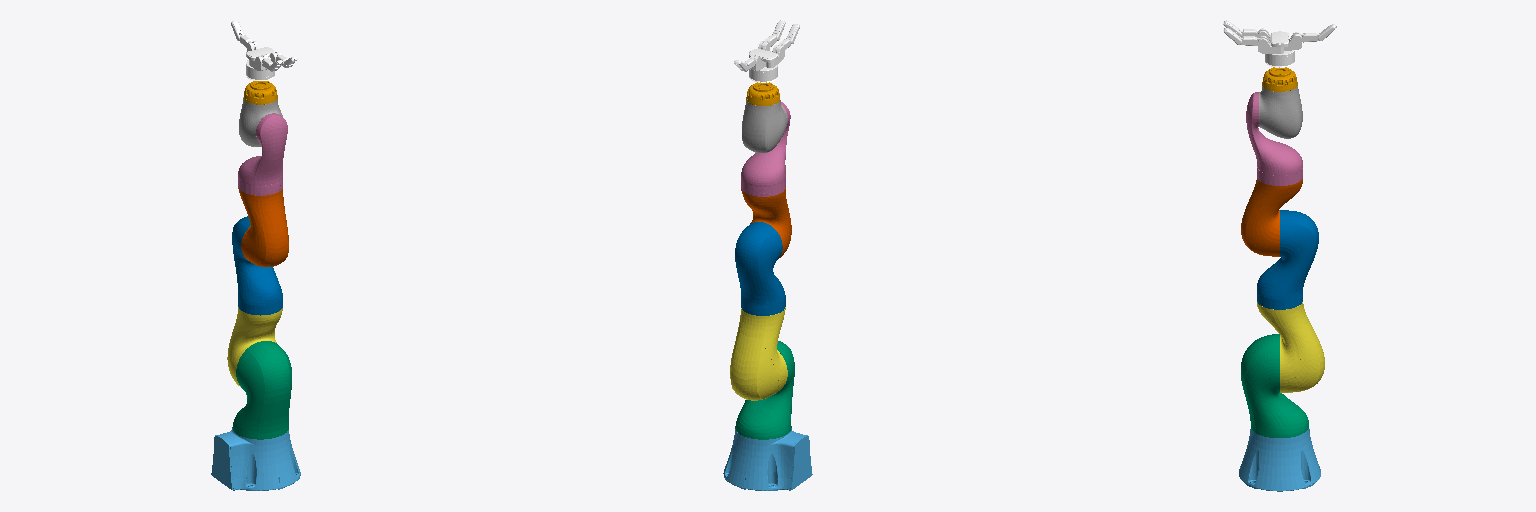
--- Render facts (derived) ---
Views: 3 orthographic renders of the robot side by side, from view 1: azimuth 30°, elevation 25°; view 2: azimuth 150°, elevation 25°; view 3: azimuth 270°, elevation 25°.
Model iiwa14 with 24 links and 23 joints (15 revolute, 8 fixed), rooted at world, posed every joint at zero.
Links seen in each view (by area): view 1: iiwa_link_1, iiwa_link_0, iiwa_link_4, iiwa_link_5, iiwa_link_3, iiwa_link_2, iiwa_link_6, iiwa_link_7, bhand_palm_link; view 2: iiwa_link_0, iiwa_link_2, iiwa_link_3, iiwa_link_1, iiwa_link_5, iiwa_link_6, iiwa_link_4, bhand_palm_link, iiwa_link_7; view 3: iiwa_link_1, iiwa_link_0, iiwa_link_3, iiwa_link_2, iiwa_link_4, iiwa_link_5, iiwa_link_6, bhand_palm_link, iiwa_link_7.
Link boxes in pixels (x1,y1,x2,y2): iiwa_link_1: [232, 341, 291, 439]; iiwa_link_0: [211, 428, 300, 490]; iiwa_link_4: [238, 188, 288, 266]; iiwa_link_5: [238, 113, 287, 195]; iiwa_link_3: [232, 216, 282, 315]; iiwa_link_2: [227, 307, 282, 386]; iiwa_link_6: [239, 97, 282, 146]; iiwa_link_7: [244, 81, 277, 104]; bhand_palm_link: [246, 41, 274, 80]; iiwa_link_0: [723, 428, 812, 490]; iiwa_link_2: [730, 307, 787, 400]; iiwa_link_3: [735, 222, 785, 315]; iiwa_link_1: [735, 341, 794, 439]; iiwa_link_5: [741, 102, 790, 196]; iiwa_link_6: [742, 100, 787, 152]; iiwa_link_4: [741, 188, 791, 257]; bhand_palm_link: [749, 49, 777, 82]; iiwa_link_7: [746, 82, 779, 105]; iiwa_link_1: [1241, 334, 1308, 437]; iiwa_link_0: [1239, 429, 1320, 491]; iiwa_link_3: [1257, 210, 1318, 309]; iiwa_link_2: [1257, 302, 1324, 392]; iiwa_link_4: [1241, 179, 1302, 256]; iiwa_link_5: [1246, 92, 1302, 185]; iiwa_link_6: [1259, 86, 1302, 138]; bhand_palm_link: [1265, 31, 1301, 67]; iiwa_link_7: [1262, 67, 1297, 91].
Bounding box of the posed robot: 0.2575 × 0.3353 × 1.45 m (x, y, z).
Meshes: 13 distinct files referenced, 17 mesh visuals loaded (12 OBJ); not drawn: 1 (reference not matched to a file when rendering).

robot.urdf — iiwa14:
<?xml version="1.0" ?>
<!-- =================================================================================== -->
<!-- |    This document was autogenerated by xacro from iiwa14.urdf.xacro              | -->
<!-- |    EDITING THIS FILE BY HAND IS NOT RECOMMENDED                                 | -->
<!-- =================================================================================== -->
<!--|
    Copyright (C) 2019 Learning Algorithms and Systems Laboratory, EPFL, Switzerland
    Authors:  Konstantinos Chatzilygeroudis (maintainer)
              Bernardo Fichera
              Walid Amanhoud
    email:    [email redacted]
              [email redacted]
              [email redacted]
    Other contributors:
              Yoan Mollard ([email redacted])
    website:  lasa.epfl.ch

    This file is part of iiwa_ros.

    iiwa_ros is free software: you can redistribute it and/or modify
    it under the terms of the GNU General Public License as published by
    the Free Software Foundation, either version 3 of the License, or
    (at your option) any later version.

    iiwa_ros is distributed in the hope that it will be useful,
    but WITHOUT ANY WARRANTY; without even the implied warranty of
    MERCHANTABILITY or FITNESS FOR A PARTICULAR PURPOSE.  See the
    GNU General Public License for more details.

|-->
<robot name="iiwa14">
  <material name="Black">
    <color rgba="0.0 0.0 0.0 1.0"/>
  </material>
  <material name="Blue">
    <color rgba="0.0 0.0 0.8 1.0"/>
  </material>
  <material name="Green">
    <color rgba="0.0 0.8 0.0 1.0"/>
  </material>
  <material name="Grey">
    <color rgba="0.4 0.4 0.4 1.0"/>
  </material>
  <material name="Orange">
    <color rgba="1.0 0.4235294117647059 0.0392156862745098 1.0"/>
  </material>
  <material name="Brown">
    <color rgba="0.8705882352941177 0.8117647058823529 0.7647058823529411 1.0"/>
  </material>
  <material name="Red">
    <color rgba="0.8 0.0 0.0 1.0"/>
  </material>
  <material name="White">
    <color rgba="1.0 1.0 1.0 1.0"/>
  </material>
  <!-- Fix to world just for testing -->
  <link name="world"/>
  <!--joint between {parent} and link_0-->
  <joint name="world_iiwa_joint" type="fixed">
    <origin rpy="0 0 0" xyz="0 0 0"/>
    <parent link="world"/>
    <child link="iiwa_link_0"/>
  </joint>
  <link name="iiwa_link_0">
    <inertial>
      <origin rpy="0 0 0" xyz="-0.1 0 0.07"/>
      <mass value="5"/>
      <inertia ixx="0.05" ixy="0" ixz="0" iyy="0.06" iyz="0" izz="0.03"/>
    </inertial>
    <visual>
      <origin rpy="0 0 0" xyz="0 0 0"/>
      <geometry>
        <mesh filename="model://epfl-iiwa14/meshes/iiwa14/visual/link_0.obj"/>
      </geometry>
      <!-- <material name="Grey"/> -->
    </visual>
    <collision>
      <origin rpy="0 0 0" xyz="0 0 0"/>
      <geometry>
        <mesh filename="model://epfl-iiwa14/meshes/iiwa14/collision/link_0.stl"/>
      </geometry>
      <!-- <material name="Grey"/> -->
    </collision>
    <self_collision_checking>
      <origin rpy="0 0 0" xyz="0 0 0"/>
      <geometry>
        <capsule length="0.25" radius="0.15"/>
      </geometry>
    </self_collision_checking>
  </link>
  <!-- joint between link_0 and link_1 -->
  <joint name="iiwa_joint_1" type="revolute">
    <parent link="iiwa_link_0"/>
    <child link="iiwa_link_1"/>
    <origin rpy="0 0 0" xyz="0 0 0.1575"/>
    <axis xyz="0 0 1"/>
    <limit effort="320" lower="-2.9670597283903604" upper="2.9670597283903604" velocity="1.4835298641951802"/>
    <safety_controller k_position="100" k_velocity="10" soft_lower_limit="-2.8187067419708423" soft_upper_limit="2.8187067419708423"/>
    <dynamics damping="0.5"/>
  </joint>
  <link name="iiwa_link_1">
    <inertial>
      <origin rpy="0 0 0" xyz="0 -0.03 0.12"/>
      <mass value="4"/>
      <inertia ixx="0.1" ixy="0" ixz="0" iyy="0.09" iyz="0" izz="0.02"/>
    </inertial>
    <visual>
      <origin rpy="0 0 0" xyz="0 0 0"/>
      <geometry>
        <mesh filename="model://epfl-iiwa14/meshes/iiwa14/visual/link_1.obj"/>
      </geometry>
      <!-- <material name="Orange"/> -->
    </visual>
    <collision>
      <origin rpy="0 0 0" xyz="0 0 0"/>
      <geometry>
        <mesh filename="model://epfl-iiwa14/meshes/iiwa14/collision/link_1.stl"/>
      </geometry>
      <!-- <material name="Orange"/> -->
    </collision>
  </link>
  <!-- joint between link_1 and link_2 -->
  <joint name="iiwa_joint_2" type="revolute">
    <parent link="iiwa_link_1"/>
    <child link="iiwa_link_2"/>
    <origin rpy="1.5707963267948966   0 3.141592653589793" xyz="0 0 0.2025"/>
    <axis xyz="0 0 1"/>
    <limit effort="320" lower="-2.0943951023931953" upper="2.0943951023931953" velocity="1.4835298641951802"/>
    <safety_controller k_position="100" k_velocity="10" soft_lower_limit="-1.9896753472735356" soft_upper_limit="1.9896753472735356"/>
    <dynamics damping="0.5"/>
  </joint>
  <link name="iiwa_link_2">
    <inertial>
      <origin rpy="0 0 0" xyz="0.0003 0.059 0.042"/>
      <mass value="4"/>
      <inertia ixx="0.05" ixy="0" ixz="0" iyy="0.018" iyz="0" izz="0.044"/>
    </inertial>
    <visual>
      <origin rpy="0 0 0" xyz="0 0 0"/>
      <geometry>
        <mesh filename="model://epfl-iiwa14/meshes/iiwa14/visual/link_2.obj"/>
      </geometry>
      <!-- <material name="Orange"/> -->
    </visual>
    <collision>
      <origin rpy="0 0 0" xyz="0 0 0"/>
      <geometry>
        <mesh filename="model://epfl-iiwa14/meshes/iiwa14/collision/link_2.stl"/>
      </geometry>
      <!-- <material name="Orange"/> -->
    </collision>
  </link>
  <!-- joint between link_2 and link_3 -->
  <joint name="iiwa_joint_3" type="revolute">
    <parent link="iiwa_link_2"/>
    <child link="iiwa_link_3"/>
    <origin rpy="1.5707963267948966 0 3.141592653589793" xyz="0 0.2045 0"/>
    <axis xyz="0 0 1"/>
    <limit effort="176" lower="-2.9670597283903604" upper="2.9670597283903604" velocity="1.7453292519943295"/>
    <safety_controller k_position="100" k_velocity="10" soft_lower_limit="-2.8187067419708423" soft_upper_limit="2.8187067419708423"/>
    <dynamics damping="0.5"/>
  </joint>
  <link name="iiwa_link_3">
    <inertial>
      <origin rpy="0 0 0" xyz="0 0.03 0.13"/>
      <mass value="3"/>
      <inertia ixx="0.08" ixy="0" ixz="0" iyy="0.075" iyz="0" izz="0.01"/>
    </inertial>
    <visual>
      <origin rpy="0 0 0" xyz="0 0 0"/>
      <geometry>
        <mesh filename="model://epfl-iiwa14/meshes/iiwa14/visual/link_3.obj"/>
      </geometry>
      <!-- <material name="Orange"/> -->
    </visual>
    <collision>
      <origin rpy="0 0 0" xyz="0 0 0"/>
      <geometry>
        <mesh filename="model://epfl-iiwa14/meshes/iiwa14/collision/link_3.stl"/>
      </geometry>
      <!-- <material name="Orange"/> -->
    </collision>
  </link>
  <!-- joint between link_3 and link_4 -->
  <joint name="iiwa_joint_4" type="revolute">
    <parent link="iiwa_link_3"/>
    <child link="iiwa_link_4"/>
    <origin rpy="1.5707963267948966 0 0" xyz="0 0 0.2155"/>
    <axis xyz="0 0 1"/>
    <limit effort="176" lower="-2.0943951023931953" upper="2.0943951023931953" velocity="1.3089969389957472"/>
    <safety_controller k_position="100" k_velocity="10" soft_lower_limit="-1.9896753472735356" soft_upper_limit="1.9896753472735356"/>
    <dynamics damping="0.5"/>
  </joint>
  <link name="iiwa_link_4">
    <inertial>
      <origin rpy="0 0 0" xyz="0 0.067 0.034"/>
      <mass value="2.7"/>
      <inertia ixx="0.03" ixy="0" ixz="0" iyy="0.01" iyz="0" izz="0.029"/>
    </inertial>
    <visual>
      <origin rpy="0 0 0" xyz="0 0 0"/>
      <geometry>
        <mesh filename="model://epfl-iiwa14/meshes/iiwa14/visual/link_4.obj"/>
      </geometry>
      <!-- <material name="Orange"/> -->
    </visual>
    <collision>
      <origin rpy="0 0 0" xyz="0 0 0"/>
      <geometry>
        <mesh filename="model://epfl-iiwa14/meshes/iiwa14/collision/link_4.stl"/>
      </geometry>
      <!-- <material name="Orange"/> -->
    </collision>
  </link>
  <!-- joint between link_4 and link_5 -->
  <joint name="iiwa_joint_5" type="revolute">
    <parent link="iiwa_link_4"/>
    <child link="iiwa_link_5"/>
    <origin rpy="-1.5707963267948966 3.141592653589793 0" xyz="0 0.1845 0"/>
    <axis xyz="0 0 1"/>
    <limit effort="110" lower="-2.9670597283903604" upper="2.9670597283903604" velocity="2.2689280275926285"/>
    <safety_controller k_position="100" k_velocity="10" soft_lower_limit="-2.8187067419708423" soft_upper_limit="2.8187067419708423"/>
    <dynamics damping="0.5"/>
  </joint>
  <link name="iiwa_link_5">
    <inertial>
      <origin rpy="0 0 0" xyz="0.0001 0.021 0.076"/>
      <mass value="1.7"/>
      <inertia ixx="0.02" ixy="0" ixz="0" iyy="0.018" iyz="0" izz="0.005"/>
    </inertial>
    <visual>
      <origin rpy="0 0 0" xyz="0 0 0"/>
      <geometry>
        <mesh filename="model://epfl-iiwa14/meshes/iiwa14/visual/link_5.obj"/>
      </geometry>
      <!-- <material name="Orange"/> -->
    </visual>
    <collision>
      <origin rpy="0 0 0" xyz="0 0 0"/>
      <geometry>
        <mesh filename="model://epfl-iiwa14/meshes/iiwa14/collision/link_5.stl"/>
      </geometry>
      <!-- <material name="Orange"/> -->
    </collision>
  </link>
  <!-- joint between link_5 and link_6 -->
  <joint name="iiwa_joint_6" type="revolute">
    <parent link="iiwa_link_5"/>
    <child link="iiwa_link_6"/>
    <origin rpy="1.5707963267948966 0 0" xyz="0 0 0.2155"/>
    <axis xyz="0 0 1"/>
    <limit effort="40" lower="-2.0943951023931953" upper="2.0943951023931953" velocity="2.356194490192345"/>
    <safety_controller k_position="100" k_velocity="10" soft_lower_limit="-1.9896753472735356" soft_upper_limit="1.9896753472735356"/>
    <dynamics damping="0.5"/>
  </joint>
  <link name="iiwa_link_6">
    <inertial>
      <origin rpy="0 0 0" xyz="0 0.0006 0.0004"/>
      <mass value="1.8"/>
      <inertia ixx="0.005" ixy="0" ixz="0" iyy="0.0036" iyz="0" izz="0.0047"/>
    </inertial>
    <visual>
      <origin rpy="0 0 0" xyz="0 0 0"/>
      <geometry>
        <mesh filename="model://epfl-iiwa14/meshes/iiwa14/visual/link_6.obj"/>
      </geometry>
      <!-- <material name="Orange"/> -->
    </visual>
    <collision>
      <origin rpy="0 0 0" xyz="0 0 0"/>
      <geometry>
        <mesh filename="model://epfl-iiwa14/meshes/iiwa14/collision/link_6.stl"/>
      </geometry>
      <!-- <material name="Orange"/> -->
    </collision>
  </link>
  <!-- joint between link_6 and link_7 -->
  <joint name="iiwa_joint_7" type="revolute">
    <parent link="iiwa_link_6"/>
    <child link="iiwa_link_7"/>
    <origin rpy="-1.5707963267948966 3.141592653589793 0" xyz="0 0.081 0"/>
    <axis xyz="0 0 1"/>
    <limit effort="40" lower="-3.0543261909900763" upper="3.0543261909900763" velocity="2.356194490192345"/>
    <safety_controller k_position="100" k_velocity="10" soft_lower_limit="-2.901609881440573" soft_upper_limit="2.901609881440573"/>
    <dynamics damping="0.5"/>
  </joint>
  <link name="iiwa_link_7">
    <inertial>
      <origin rpy="0 0 0" xyz="0 0 0.02"/>
      <mass value="0.3"/>
      <inertia ixx="0.001" ixy="0" ixz="0" iyy="0.001" iyz="0" izz="0.001"/>
    </inertial>
    <visual>
      <origin rpy="0 0 0" xyz="0 0 0"/>
      <geometry>
        <mesh filename="model://epfl-iiwa14/meshes/iiwa14/visual/link_7.obj"/>
      </geometry>
      <!-- <material name="Grey"/> -->
    </visual>
    <collision>
      <origin rpy="0 0 0" xyz="0 0 0"/>
      <geometry>
        <mesh filename="model://epfl-iiwa14/meshes/iiwa14/collision/link_7.stl"/>
      </geometry>
      <!-- <material name="Grey"/> -->
    </collision>
  </link>

  <!-- <joint name="iiwa_joint_ee" type="fixed">
    <parent link="iiwa_link_7"/>
    <child link="iiwa_link_ee"/>
    <origin xyz="0 0 0.06" rpy="0 0 0"/>
  </joint> -->

  <joint name="iiwa_joint_ft_sensor" type="fixed">
    <parent link="iiwa_link_7"/>
    <child link="ft_sensor"/>
    <!-- TODO -->
    <origin xyz="0 0 0.059" rpy="0 0 0" />
  </joint>

  <joint name="iiwa_joint_camera_mount" type="fixed">
    <parent link="ft_sensor"/>
    <child link="bhand_palm_link"/>
    <!-- TODO -->
    <origin xyz="0 0 0.015" rpy="0 0 0"/>
  </joint>



  <!-- Load Gazebo lib and set the robot namespace -->
  <gazebo>
    <plugin filename="libgazebo_ros_control.so" name="gazebo_ros_control">
      <robotNamespace>/iiwa</robotNamespace>
      <robotSimType>iiwa_gazebo/GravityCompensationHWSim</robotSimType>
    </plugin>
  </gazebo>
  <!-- Link0 -->
  <gazebo reference="iiwa_link_0">
    <material>Gazebo/Grey</material>
    <mu1>0.2</mu1>
    <mu2>0.2</mu2>
  </gazebo>
  <!-- Link1 -->
  <gazebo reference="iiwa_link_1">
    <material>Gazebo/Orange</material>
    <mu1>0.2</mu1>
    <mu2>0.2</mu2>
  </gazebo>
  <!-- Link2 -->
  <gazebo reference="iiwa_link_2">
    <material>Gazebo/Orange</material>
    <mu1>0.2</mu1>
    <mu2>0.2</mu2>
  </gazebo>
  <!-- Link3 -->
  <gazebo reference="iiwa_link_3">
    <material>Gazebo/Orange</material>
    <mu1>0.2</mu1>
    <mu2>0.2</mu2>
  </gazebo>
  <!-- Link4 -->
  <gazebo reference="iiwa_link_4">
    <material>Gazebo/Orange</material>
    <mu1>0.2</mu1>
    <mu2>0.2</mu2>
  </gazebo>
  <!-- Link5 -->
  <gazebo reference="iiwa_link_5">
    <material>Gazebo/Orange</material>
    <mu1>0.2</mu1>
    <mu2>0.2</mu2>
  </gazebo>
  <!-- Link6 -->
  <gazebo reference="iiwa_link_6">
    <material>Gazebo/Orange</material>
    <mu1>0.2</mu1>
    <mu2>0.2</mu2>
  </gazebo>
  <!-- Link7 -->
  <gazebo reference="iiwa_link_7">
    <material>Gazebo/Grey</material>
    <mu1>0.2</mu1>
    <mu2>0.2</mu2>
  </gazebo>
  <transmission name="iiwa_tran_1">
    <robotNamespace>/iiwa</robotNamespace>
    <type>transmission_interface/SimpleTransmission</type>
    <joint name="iiwa_joint_1">
      <hardwareInterface>hardware_interface/PositionJointInterface</hardwareInterface>
    </joint>
    <actuator name="iiwa_motor_1">
      <hardwareInterface>hardware_interface/PositionJointInterface</hardwareInterface>
      <mechanicalReduction>1</mechanicalReduction>
    </actuator>
  </transmission>
  <transmission name="iiwa_tran_2">
    <robotNamespace>/iiwa</robotNamespace>
    <type>transmission_interface/SimpleTransmission</type>
    <joint name="iiwa_joint_2">
      <hardwareInterface>hardware_interface/PositionJointInterface</hardwareInterface>
    </joint>
    <actuator name="iiwa_motor_2">
      <hardwareInterface>hardware_interface/PositionJointInterface</hardwareInterface>
      <mechanicalReduction>1</mechanicalReduction>
    </actuator>
  </transmission>
  <transmission name="iiwa_tran_3">
    <robotNamespace>/iiwa</robotNamespace>
    <type>transmission_interface/SimpleTransmission</type>
    <joint name="iiwa_joint_3">
      <hardwareInterface>hardware_interface/PositionJointInterface</hardwareInterface>
    </joint>
    <actuator name="iiwa_motor_3">
      <hardwareInterface>hardware_interface/PositionJointInterface</hardwareInterface>
      <mechanicalReduction>1</mechanicalReduction>
    </actuator>
  </transmission>
  <transmission name="iiwa_tran_4">
    <robotNamespace>/iiwa</robotNamespace>
    <type>transmission_interface/SimpleTransmission</type>
    <joint name="iiwa_joint_4">
      <hardwareInterface>hardware_interface/PositionJointInterface</hardwareInterface>
    </joint>
    <actuator name="iiwa_motor_4">
      <hardwareInterface>hardware_interface/PositionJointInterface</hardwareInterface>
      <mechanicalReduction>1</mechanicalReduction>
    </actuator>
  </transmission>
  <transmission name="iiwa_tran_5">
    <robotNamespace>/iiwa</robotNamespace>
    <type>transmission_interface/SimpleTransmission</type>
    <joint name="iiwa_joint_5">
      <hardwareInterface>hardware_interface/PositionJointInterface</hardwareInterface>
    </joint>
    <actuator name="iiwa_motor_5">
      <hardwareInterface>hardware_interface/PositionJointInterface</hardwareInterface>
      <mechanicalReduction>1</mechanicalReduction>
    </actuator>
  </transmission>
  <transmission name="iiwa_tran_6">
    <robotNamespace>/iiwa</robotNamespace>
    <type>transmission_interface/SimpleTransmission</type>
    <joint name="iiwa_joint_6">
      <hardwareInterface>hardware_interface/PositionJointInterface</hardwareInterface>
    </joint>
    <actuator name="iiwa_motor_6">
      <hardwareInterface>hardware_interface/PositionJointInterface</hardwareInterface>
      <mechanicalReduction>1</mechanicalReduction>
    </actuator>
  </transmission>
  <transmission name="iiwa_tran_7">
    <robotNamespace>/iiwa</robotNamespace>
    <type>transmission_interface/SimpleTransmission</type>
    <joint name="iiwa_joint_7">
      <hardwareInterface>hardware_interface/PositionJointInterface</hardwareInterface>
    </joint>
    <actuator name="iiwa_motor_7">
      <hardwareInterface>hardware_interface/PositionJointInterface</hardwareInterface>
      <mechanicalReduction>1</mechanicalReduction>
    </actuator>
  </transmission>

  <!-- Gamma FT sensor -->
  <!-- https://github.com/fsuarez6/netft/blob/master/netft_description/urdf/ati_gamma.xacro -->
  <!-- The height (Z) of the denso-gamma coupler is 10mm -->
  <!-- The Z of the sensor is 28.6mm but the reference frame is at 14mm -->
  <!-- That's why we first translate the FT sensor 24mm -->
  <link name="ft_sensor">
    <visual>
      <origin xyz="0 0 0" rpy="0 0 0.52359877559" />
      <geometry>
        <mesh filename="model://ati-gamma/meshes/ati_gamma.stl"/>
      </geometry>
      <material name="aluminium">
        <color rgba="0.678 0.698 0.741 1.0" />
      </material>
    </visual>
    <collision>
      <origin xyz="0 0 0" rpy="0 0 0.52359877559" />
      <geometry>
        <mesh filename="model://ati-gamma/meshes/ati_gamma.stl"/>
      </geometry>
    </collision>
    <inertial>
      <origin xyz="9.396e-4  0.017  -7.545e-4" rpy="0 0 0" />
      <mass value="0.215" />
      <!-- mass: 0.255 ? from https://github.com/ubi-agni/ati_sensor_description/blob/master/robots/sensor_types.yaml#L6 -->
      <inertia ixx="1.055e-4" ixy="-7.262e-7" ixz="6.186e-6" iyy="1.7e-4" iyz="6.529e-7" izz="1.076e-4" />
    </inertial>
  </link>

  <!-- hand start -->
  <link name="bhand_palm_link">
    <inertial>
      <origin xyz="-5.1098e-005 0.0050433 0.036671"/>
      <mass value="0.50573"/>
      <inertia ixx="3.8374e-005" ixy="-5.604e-008" ixz="-4.2034e-005" iyy="0.00022405" iyz="1.3283e-007" izz="0.00020045"/>
    </inertial>
    <visual>
      <material name="WAMGrey">
        <color rgba="1 1 1 1"/>
      </material>
      <geometry>
        <mesh filename="barrett-bh8/meshes/sw_meshes/bhand/palm_fine.obj"/>
      </geometry>
    </visual>
    <!-- wrist -->
    <collision>
      <origin xyz="0 0 0.02029"/>
      <geometry>
        <cylinder length="0.042" radius="0.045"/>
      </geometry>
    </collision>
    <!-- spine -->
    <collision>
      <origin xyz="0 0.01105 0.05768"/>
      <geometry>
        <box size="0.024 0.108 0.033"/>
      </geometry>
    </collision>
    <!-- palm -->
    <collision>
      <origin xyz="0 0 0.07243"/>
      <geometry>
        <box size="0.076 0.046 0.012"/>
      </geometry>
      <surface>
        <friction>
          <ode>
            <mu>1</mu>
            <mu2>1</mu2>
          </ode>
        </friction>
      </surface>
    </collision>
    <!-- F1 knuckle -->
    <collision>
      <origin rpy="0 1.5707 0" xyz="0 0.05 0.07527"/>
      <geometry>
        <cylinder length="0.024" radius="0.015"/>
      </geometry>
    </collision>
  </link>
  <joint name="right_bhand_palm_surface_joint" type="fixed">
    <parent link="bhand_palm_link"/>
    <child link="right_bhand_palm_surface_link"/>
    <origin rpy="0 0 0" xyz="0 0 0.08"/>
    <limit effort="30" lower="0" upper="3.14159265359" velocity="5.0"/>
  </joint>
  <link name="right_bhand_palm_surface_link">
    <inertial>
      <mass value="0.00001"/>
      <inertia ixx="0.000001" ixy="0.0" ixz="0.0" iyy="0.000001" iyz="0.0" izz="0.000001"/>
    </inertial>
  </link>
  <joint name="right_bhand_grasp_joint" type="fixed">
    <parent link="bhand_palm_link"/>
    <child link="right_bhand_grasp_link"/>
    <origin rpy="0 0 0" xyz="0 0 0.12"/>
    <limit effort="30" lower="0" upper="3.14159265359" velocity="5.0"/>
  </joint>
  <link name="right_bhand_grasp_link">
    <collision>
      <!-- https://github.com/ros-planning/moveit_core/issues/158 -->
      <origin rpy="0 0 0" xyz="0 0 -0.13"/>
      <geometry>
        <sphere radius="0.001"/>
      </geometry>
    </collision>
    <inertial>
      <mass value="0.00001"/>
      <inertia ixx="0.000001" ixy="0.0" ixz="0.0" iyy="0.000001" iyz="0.0" izz="0.000001"/>
    </inertial>
  </link>
  <joint name="finger_1/prox_joint" type="revolute">
    <parent link="bhand_palm_link"/>
    <child link="finger_1/prox_link"/>
    <origin rpy="0 0 -1.57079632679" xyz="-0.025 0.0 0.0415"/>
    <axis xyz="0 0 -1"/>
    <limit effort="5" lower="0" upper="3.14159265359" velocity="10.0"/>
    <!-- <dynamics damping="0.35" friction="0"/> -->
    <dynamics damping="0.01" friction="0"/>
  </joint>
  <link name="finger_1/prox_link">
    <inertial>
      <origin xyz="0.023133 0.00078642 0.00052792"/>
      <mass value="0.14109"/>
      <inertia ixx="4.872e-006" ixy="1.7103e-006" ixz="3.4041e-008" iyy="7.6588e-005" iyz="2.3133e-008" izz="7.7733e-005"/>
    </inertial>
    <visual>
      <material name="WAMGrey">
        <color rgba="1 1 1 1"/>
      </material>
      <geometry>
        <mesh filename="barrett-bh8/meshes/sw_meshes/bhand/prox_fine.obj"/>
      </geometry>
    </visual>
    <!-- base -->
    <collision>
      <origin xyz="0.03217 0.0 0.01674"/>
      <geometry>
        <box size="0.066 0.024 0.033"/>
      </geometry>
    </collision>
    <!-- F2/F3 knuckle -->
    <collision>
      <origin rpy="1.5707 0 0" xyz="0.05 0.0 0.034"/>
      <geometry>
        <cylinder length="0.024" radius="0.015"/>
      </geometry>
    </collision>
  </link>
  <joint name="finger_1/med_joint" type="revolute">
    <parent link="finger_1/prox_link"/>
    <child link="finger_1/med_link"/>
    <origin rpy="1.57079632679 0 0" xyz="0.05 0.0 0.03390"/>
    <axis xyz="0 0 1"/>
    <limit effort="30" lower="0" upper="2.44346095279" velocity="10.00"/>
    <!-- <dynamics damping="0.35" friction="0"/> -->
    <dynamics damping="0.01" friction="0"/>
  </joint>
  <link name="finger_1/med_link">
    <inertial>
      <origin xyz="0.023133 0.00078642 0.00052792"/>
      <mass value="0.062139"/>
      <inertia ixx="4.872e-006" ixy="1.7103e-006" ixz="3.4041e-008" iyy="7.6588e-005" iyz="2.3133e-008" izz="7.7733e-005"/>
    </inertial>
    <visual>
      <material name="WAMGrey">
        <color rgba="1 1 1 1"/>
      </material>
      <geometry>
        <mesh filename="barrett-bh8/meshes/sw_meshes/bhand/med_fine.obj"/>
      </geometry>
    </visual>
    <!-- spine -->
    <collision>
      <origin xyz="0.03493 0.003 -0.0007"/>
      <geometry>
        <box size="0.07 0.019 0.006"/>
      </geometry>
    </collision>
    <!-- protrusion -->
    <collision>
      <origin xyz="0.03894 0.00376 -0.0007"/>
      <geometry>
        <box size="0.031 0.023 0.019"/>
      </geometry>
      <surface>
        <friction>
          <ode>
            <mu>1</mu>
            <mu2>1</mu2>
          </ode>
        </friction>
      </surface>
    </collision>
  </link>
  <joint name="finger_1/dist_joint" type="revolute">
    <parent link="finger_1/med_link"/>
    <child link="finger_1/dist_link"/>
    <origin rpy="0 0 0.785398163397" xyz="0.06994 0.003 0.0"/>
    <axis xyz="0 0 1"/>
    <limit effort="30" lower="0" upper="0.837758040957" velocity="10.00"/>
    <!-- <dynamics damping="0.35" friction="0"/> -->
    <dynamics damping="0.01" friction="0"/>
  </joint>
  <link name="finger_1/dist_link">
    <inertial>
      <origin rpy="0 0 0" xyz="0.022825 0.0010491 0.0004203"/>
      <mass value="0.041377"/>
      <inertia ixx="3.1582e-006" ixy="1.4308e-006" ixz="1.0106e-007" iyy="3.8376e-005" iyz="0" izz="3.7275e-005"/>
    </inertial>
    <visual>
      <origin rpy="0 0 -0.785398163397"/>
      <material name="WAMGrey">
        <color rgba="1 1 1 1"/>
      </material>
      <geometry>
        <mesh filename="barrett-bh8/meshes/sw_meshes/bhand/dist_fine.obj"/>
      </geometry>
    </visual>
    <collision>
      <origin rpy="0 0 -0.785398163397"/>
      <geometry>
        <mesh filename="barrett-bh8/meshes/sw_meshes/bhand/bhand_finger_dist_link_convex.dae"/>
      </geometry>
      <surface>
        <friction>
          <ode>
            <mu>1</mu>
            <mu2>1</mu2>
          </ode>
        </friction>
      </surface>
    </collision>
  </link>
  <joint name="finger_1/tip_joint" type="fixed">
    <parent link="finger_1/dist_link"/>
    <child link="finger_1/tip_link"/>
    <origin rpy="0 0 0" xyz="0.05 0.0 0.0"/>
  </joint>
  <link name="finger_1/tip_link">
    <inertial>
      <mass value="1E-6"/>
      <inertia ixx="1E-6" ixy="0" ixz="0" iyy="1E-6" iyz="0" izz="1E-6"/>
    </inertial>
  </link>
  <joint name="finger_2/prox_joint" type="revolute">
    <parent link="bhand_palm_link"/>
    <child link="finger_2/prox_link"/>
    <origin rpy="0 0 -1.57079632679" xyz="0.025 0.0 0.0415"/>
    <axis xyz="0 0 1"/>
    <limit effort="5" lower="0" upper="3.14159265359" velocity="10.0"/>
    <!-- Change the damping to influence the spread behavior -->
    <!-- <dynamics damping="0.35" friction="0"/> -->
    <dynamics damping="0.01" friction="0"/>
  </joint>
  <link name="finger_2/prox_link">
    <inertial>
      <origin xyz="0.023133 0.00078642 0.00052792"/>
      <mass value="0.14109"/>
      <inertia ixx="4.872e-006" ixy="1.7103e-006" ixz="3.4041e-008" iyy="7.6588e-005" iyz="2.3133e-008" izz="7.7733e-005"/>
    </inertial>
    <visual>
      <material name="WAMGrey">
        <color rgba="1 1 1 1"/>
      </material>
      <geometry>
        <mesh filename="barrett-bh8/meshes/sw_meshes/bhand/prox_fine.obj"/>
      </geometry>
    </visual>
    <!-- base -->
    <collision>
      <origin xyz="0.03217 0.0 0.01674"/>
      <geometry>
        <box size="0.066 0.024 0.033"/>
      </geometry>
    </collision>
    <!-- F2/F3 knuckle -->
    <collision>
      <origin rpy="1.5707 0 0" xyz="0.05 0.0 0.034"/>
      <geometry>
        <cylinder length="0.024" radius="0.015"/>
      </geometry>
    </collision>
  </link>
  <joint name="finger_2/med_joint" type="revolute">
    <parent link="finger_2/prox_link"/>
    <child link="finger_2/med_link"/>
    <origin rpy="1.57079632679 0 0" xyz="0.05 0.0 0.03390"/>
    <axis xyz="0 0 1"/>
    <limit effort="30" lower="0" upper="2.44346095279" velocity="10.00"/>
    <!-- <dynamics damping="0.35" friction="0"/> -->
    <dynamics damping="0.01" friction="0"/>
  </joint>
  <link name="finger_2/med_link">
    <inertial>
      <origin xyz="0.023133 0.00078642 0.00052792"/>
      <mass value="0.062139"/>
      <inertia ixx="4.872e-006" ixy="1.7103e-006" ixz="3.4041e-008" iyy="7.6588e-005" iyz="2.3133e-008" izz="7.7733e-005"/>
    </inertial>
    <visual>
      <material name="WAMGrey">
        <color rgba="1 1 1 1"/>
      </material>
      <geometry>
        <mesh filename="barrett-bh8/meshes/sw_meshes/bhand/med_fine.obj"/>
      </geometry>
    </visual>
    <!-- spine -->
    <collision>
      <origin xyz="0.03493 0.003 -0.0007"/>
      <geometry>
        <box size="0.07 0.019 0.006"/>
      </geometry>
    </collision>
    <!-- protrusion -->
    <collision>
      <origin xyz="0.03894 0.00376 -0.0007"/>
      <geometry>
        <box size="0.031 0.023 0.019"/>
      </geometry>
      <surface>
        <friction>
          <ode>
            <mu>1</mu>
            <mu2>1</mu2>
          </ode>
        </friction>
      </surface>
    </collision>
  </link>
  <joint name="finger_2/dist_joint" type="revolute">
    <parent link="finger_2/med_link"/>
    <child link="finger_2/dist_link"/>
    <origin rpy="0 0 0.785398163397" xyz="0.06994 0.003 0.0"/>
    <axis xyz="0 0 1"/>
    <limit effort="30" lower="0" upper="0.837758040957" velocity="10.00"/>
    <!-- <dynamics damping="0.35" friction="0"/> -->
    <dynamics damping="0.01" friction="0"/>
  </joint>
  <link name="finger_2/dist_link">
    <inertial>
      <origin rpy="0 0 0" xyz="0.022825 0.0010491 0.0004203"/>
      <mass value="0.041377"/>
      <inertia ixx="3.1582e-006" ixy="1.4308e-006" ixz="1.0106e-007" iyy="3.8376e-005" iyz="0" izz="3.7275e-005"/>
    </inertial>
    <visual>
      <origin rpy="0 0 -0.785398163397"/>
      <material name="WAMGrey">
        <color rgba="1 1 1 1"/>
      </material>
      <geometry>
        <mesh filename="barrett-bh8/meshes/sw_meshes/bhand/dist_fine.obj"/>
      </geometry>
    </visual>
    <collision>
      <origin rpy="0 0 -0.785398163397"/>
      <geometry>
        <mesh filename="barrett-bh8/meshes/sw_meshes/bhand/bhand_finger_dist_link_convex.dae"/>
      </geometry>
      <surface>
        <friction>
          <ode>
            <mu>1</mu>
            <mu2>1</mu2>
          </ode>
        </friction>
      </surface>
    </collision>
  </link>
  <joint name="finger_2/tip_joint" type="fixed">
    <parent link="finger_2/dist_link"/>
    <child link="finger_2/tip_link"/>
    <origin rpy="0 0 0" xyz="0.05 0.0 0.0"/>
  </joint>
  <link name="finger_2/tip_link">
    <inertial>
      <mass value="1E-6"/>
      <inertia ixx="1E-6" ixy="0" ixz="0" iyy="1E-6" iyz="0" izz="1E-6"/>
    </inertial>
  </link>
  <joint name="finger_3/med_joint" type="revolute">
    <parent link="bhand_palm_link"/>
    <child link="finger_3/med_link"/>
    <origin rpy="1.57079632679 0 1.57079632679" xyz="0 0.05 0.0754"/>
    <axis xyz="0 0 1"/>
    <limit effort="30" lower="0" upper="2.44346095279" velocity="10.00"/>
    <!-- <dynamics damping="0.35" friction="0"/> -->
    <dynamics damping="0.01" friction="0"/>
  </joint>
  <link name="finger_3/med_link">
    <inertial>
      <origin xyz="0.023133 0.00078642 0.00052792"/>
      <mass value="0.062139"/>
      <inertia ixx="4.872e-006" ixy="1.7103e-006" ixz="3.4041e-008" iyy="7.6588e-005" iyz="2.3133e-008" izz="7.7733e-005"/>
    </inertial>
    <visual>
      <material name="WAMGrey">
        <color rgba="1 1 1 1"/>
      </material>
      <geometry>
        <mesh filename="barrett-bh8/meshes/sw_meshes/bhand/med_fine.obj"/>
      </geometry>
    </visual>
    <!-- spine -->
    <collision>
      <origin xyz="0.03493 0.003 -0.0007"/>
      <geometry>
        <box size="0.07 0.019 0.006"/>
      </geometry>
    </collision>
    <!-- protrusion -->
    <collision>
      <origin xyz="0.03894 0.00376 -0.0007"/>
      <geometry>
        <box size="0.031 0.023 0.019"/>
      </geometry>
      <surface>
        <friction>
          <ode>
            <mu>1</mu>
            <mu2>1</mu2>
          </ode>
        </friction>
      </surface>
    </collision>
  </link>
  <joint name="finger_3/dist_joint" type="revolute">
    <parent link="finger_3/med_link"/>
    <child link="finger_3/dist_link"/>
    <origin rpy="0 0 0.785398163397" xyz="0.06994 0.003 0.0"/>
    <axis xyz="0 0 1"/>
    <limit effort="30" lower="0" upper="0.837758040957" velocity="10.00"/>
    <!-- <dynamics damping="0.35" friction="0"/> -->
    <dynamics damping="0.01" friction="0"/>
  </joint>
  <link name="finger_3/dist_link">
    <inertial>
      <origin rpy="0 0 0" xyz="0.022825 0.0010491 0.0004203"/>
      <mass value="0.041377"/>
      <inertia ixx="3.1582e-006" ixy="1.4308e-006" ixz="1.0106e-007" iyy="3.8376e-005" iyz="0" izz="3.7275e-005"/>
    </inertial>
    <visual>
      <origin rpy="0 0 -0.785398163397"/>
      <material name="WAMGrey">
        <color rgba="1 1 1 1"/>
      </material>
      <geometry>
        <mesh filename="barrett-bh8/meshes/sw_meshes/bhand/dist_fine.obj"/>
      </geometry>
    </visual>
    <collision>
      <origin rpy="0 0 -0.785398163397"/>
      <geometry>
        <mesh filename="barrett-bh8/meshes/sw_meshes/bhand/bhand_finger_dist_link_convex.dae"/>
      </geometry>
      <surface>
        <friction>
          <ode>
            <mu>1</mu>
            <mu2>1</mu2>
          </ode>
        </friction>
      </surface>
    </collision>
  </link>
  <joint name="finger_3/tip_joint" type="fixed">
    <parent link="finger_3/dist_link"/>
    <child link="finger_3/tip_link"/>
    <origin rpy="0 0 0" xyz="0.05 0.0 0.0"/>
  </joint>
  <link name="finger_3/tip_link">
    <inertial>
      <mass value="1E-6"/>
      <inertia ixx="1E-6" ixy="0" ixz="0" iyy="1E-6" iyz="0" izz="1E-6"/>
    </inertial>
  </link>
<!-- hand end -->

  
</robot>
